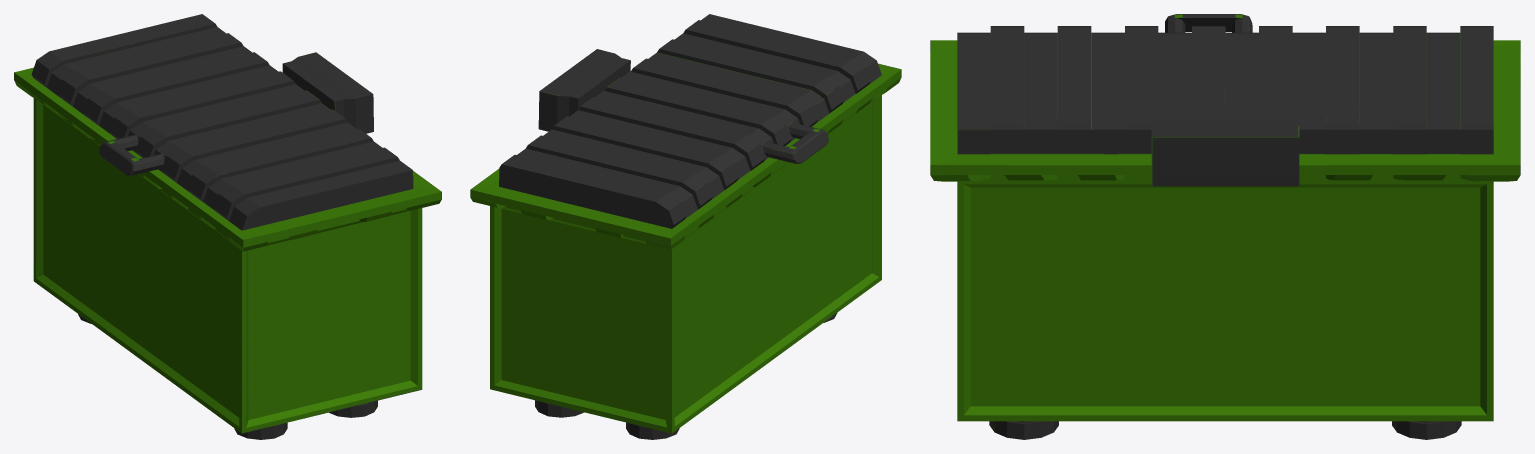
File: BigT.fbx
3 renders of one model, left to right at view 1: azimuth 30°, elevation 25°; view 2: azimuth 150°, elevation 25°; view 3: azimuth 270°, elevation 25°, orthographic. The views are drawn at different scales.
Visible parts, largest first — view 1: Cube; view 2: Cube; view 3: Cube.
Part boxes in pixels (x1,y1,x2,y2): Cube: (14, 14, 441, 439); Cube: (470, 14, 901, 439); Cube: (930, 14, 1520, 439).
Bounding box in the file's own units: 264 × 274 × 440.
